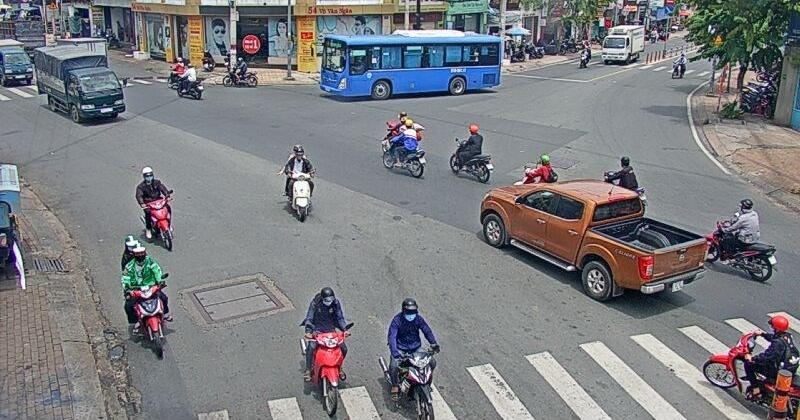xe buyt: (316, 30, 502, 102)
xe hoi: (479, 178, 726, 305)
xe may: (702, 312, 800, 417), (302, 283, 353, 420), (383, 296, 439, 420), (704, 192, 778, 283), (121, 238, 176, 360), (133, 165, 176, 252), (280, 142, 312, 223), (446, 123, 489, 181), (382, 121, 424, 177)
xe tai: (32, 46, 126, 127)
